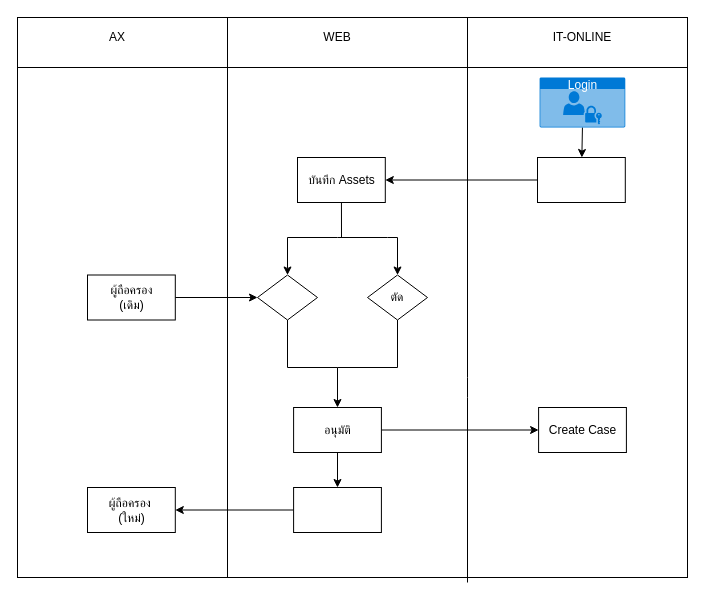
Image size: 705x601. Some labels were removed from this diagram. Each missing label, with the box of its shape:
Menu: (536, 156, 625, 202)
อนุมัติ (เสร็จสิ้น): (293, 486, 381, 532)
โอนย้าย: (256, 274, 318, 320)
